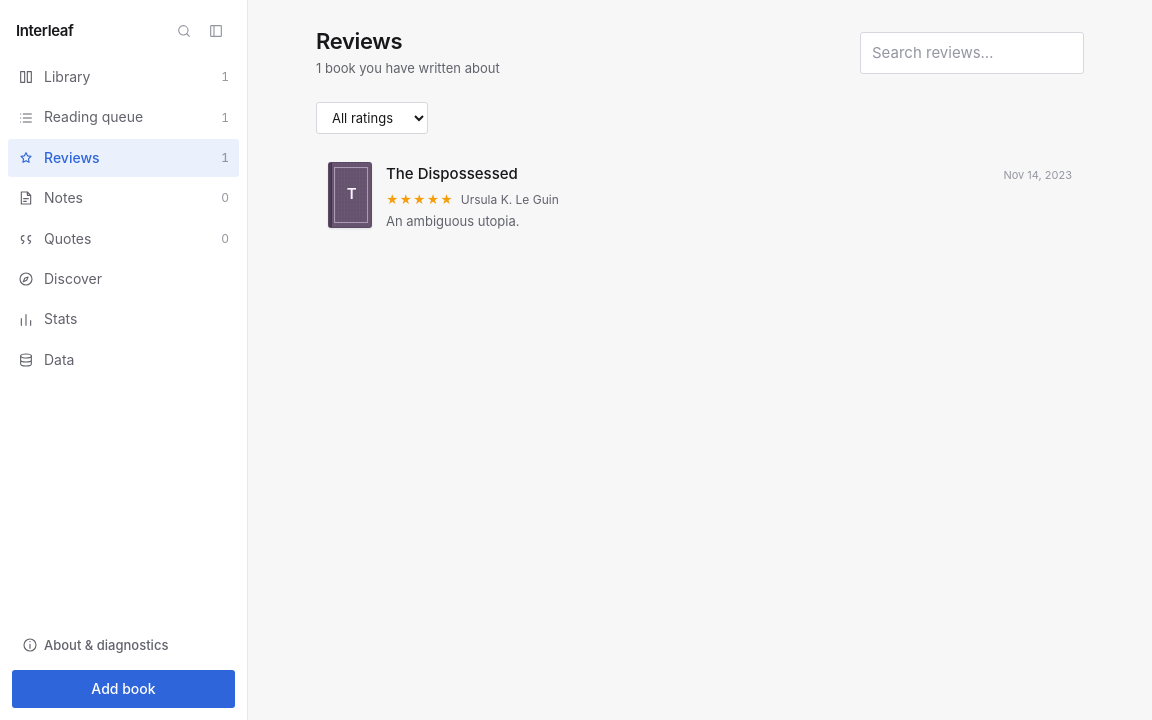
Scenario: the Reviews screen › opens the review on its own screen
Click the button with test id "review-row" at (350, 195), box [316,150,1084,243]
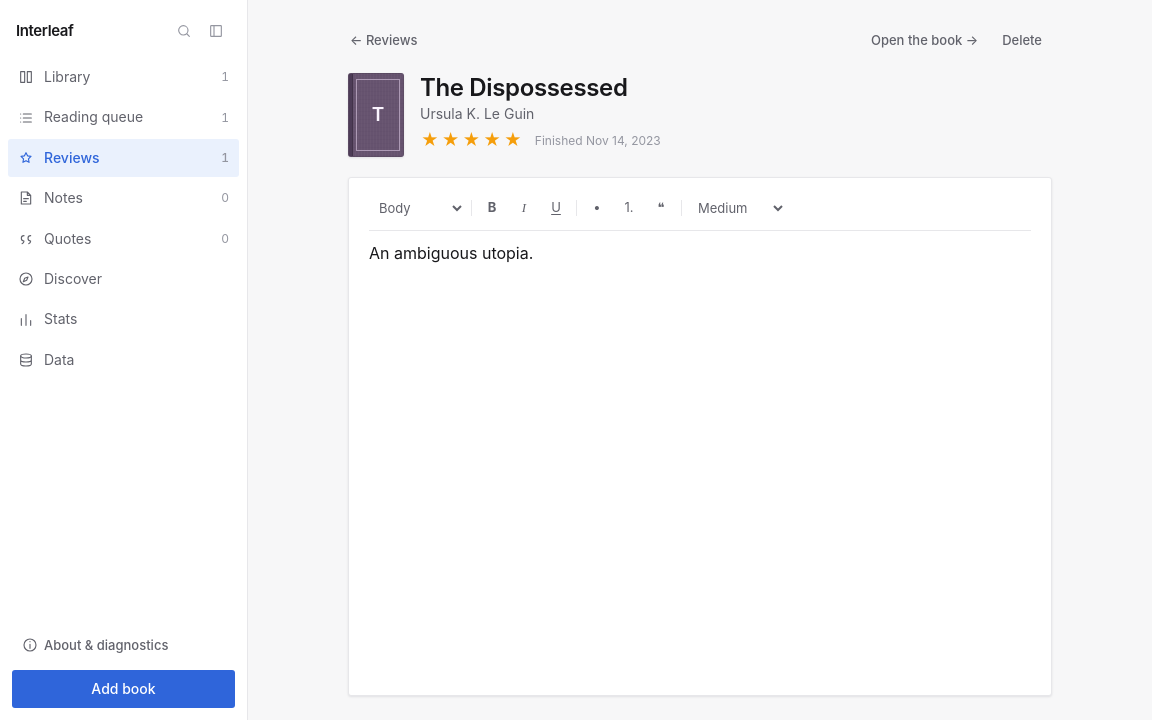
Expected: the heading "The Dispossessed" is shown, [420,73,628,102]
Result: the button "Open the book →" is shown at [861,24,988,57]
